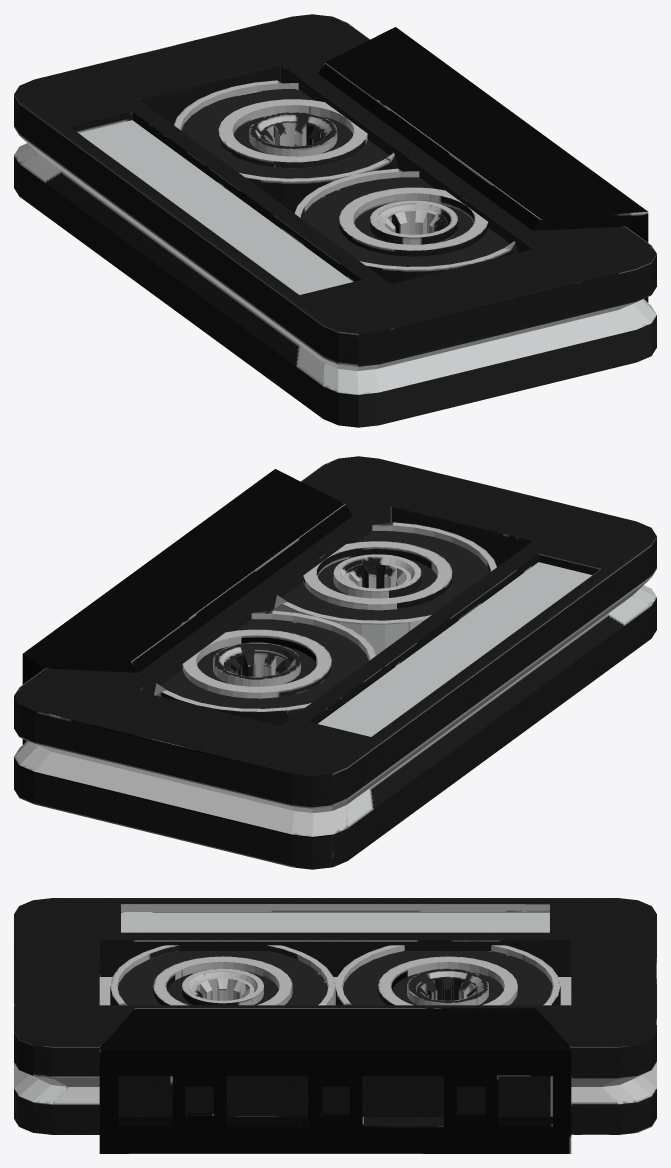
The model's file is cassete5.fbx.
3 renders of one model, top to bottom at view 1: azimuth 30°, elevation 25°; view 2: azimuth 150°, elevation 25°; view 3: azimuth 270°, elevation 25°, orthographic. The views are drawn at different scales.
Visible parts, largest first — view 1: Cube; view 2: Cube; view 3: Cube.
Part boxes in pixels (<box>): Cube: <box>14,14,656,427</box>; Cube: <box>14,456,656,869</box>; Cube: <box>14,898,656,1153</box>.
Size of the model in its own units: 235 by 72 by 400.
1 material, 1 textured.
